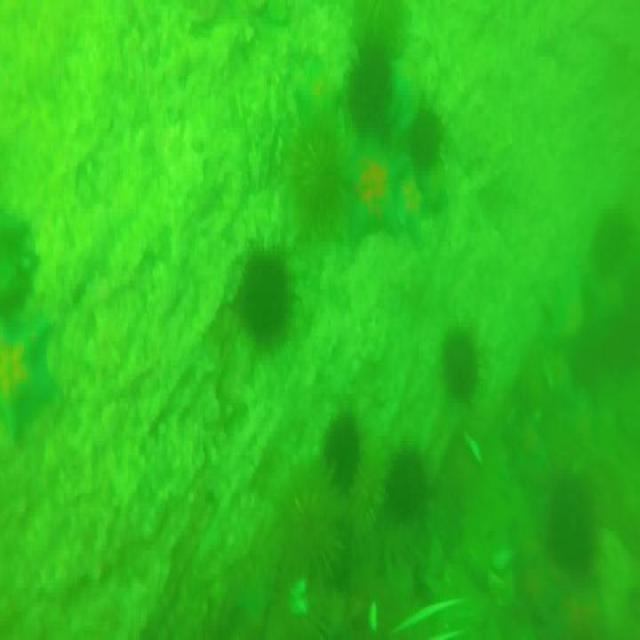echinus: (288, 488, 349, 594), (549, 468, 603, 575), (233, 248, 291, 341), (286, 118, 339, 215), (346, 46, 396, 145), (319, 412, 360, 493), (391, 449, 429, 520), (443, 327, 480, 395), (572, 322, 607, 390), (594, 202, 626, 272), (406, 112, 449, 163)
starfish: (0, 313, 55, 450), (339, 142, 408, 244)
